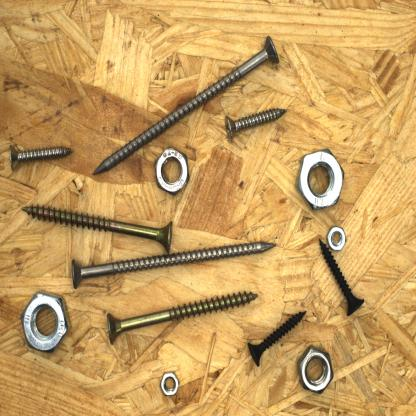screw: (88, 33, 282, 183), (68, 239, 280, 294), (18, 201, 180, 258), (104, 289, 260, 348), (317, 236, 369, 322), (246, 308, 310, 369), (220, 102, 290, 146), (6, 140, 76, 177)
